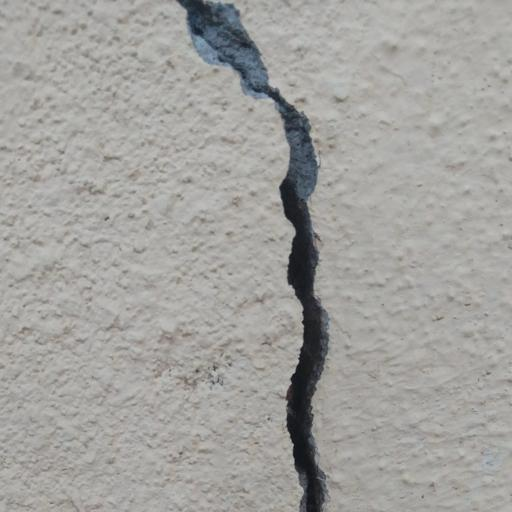major_crack: (174, 0, 356, 512)
